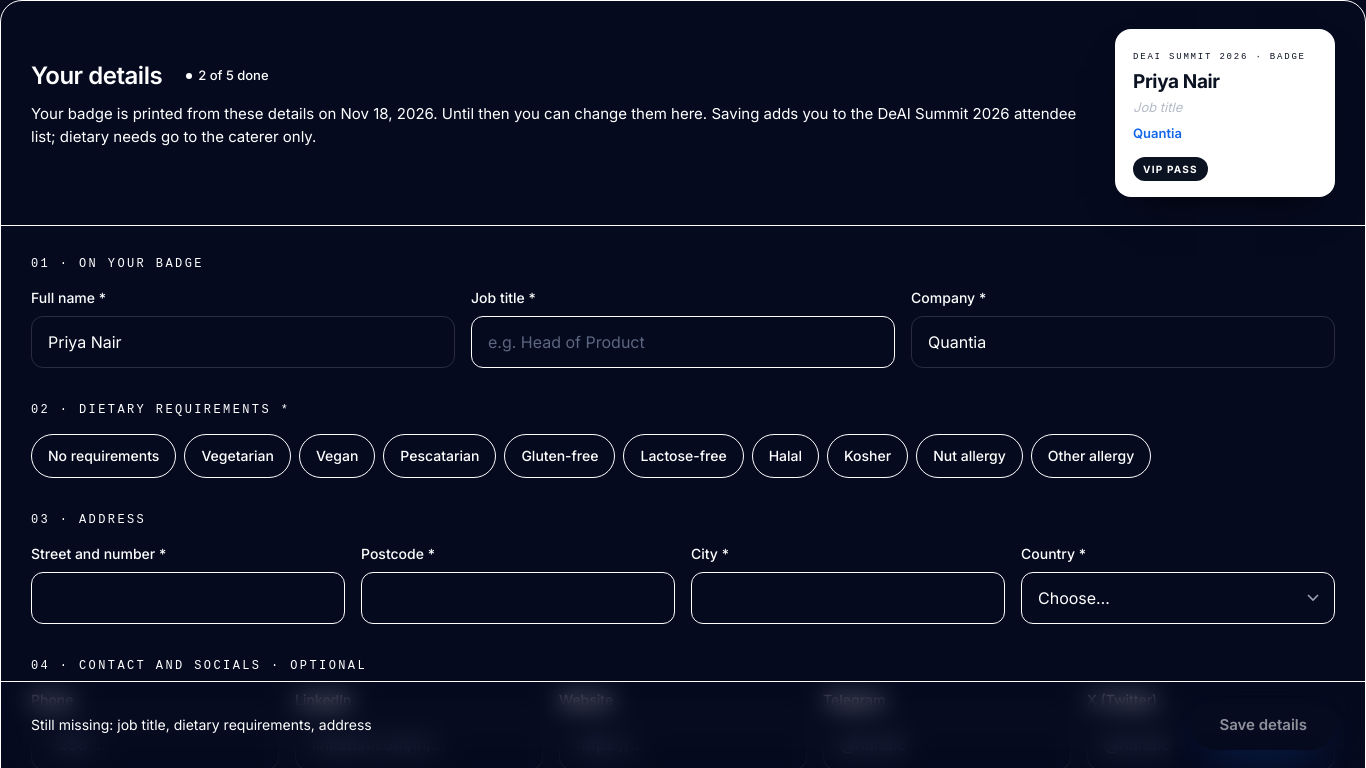
Test case: TicketDetailsForm › saves only the changed fields with the token in a header, says what is still missing, and refreshes the page
This screenshot has width=1366, height=768.
Type " CTO " into the field labelled "Job title *" at (683, 342), box [471,316,895,368]
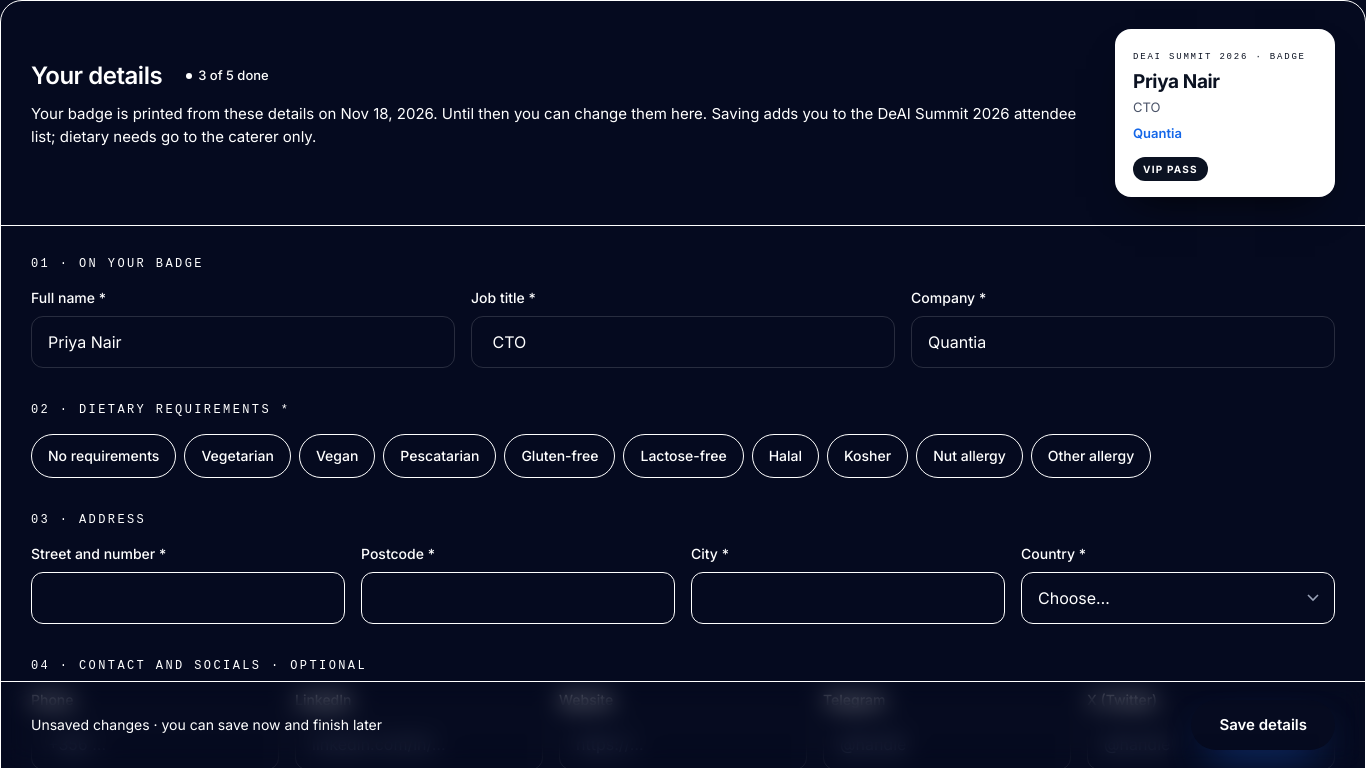
Click the button "Vegan" at (337, 456), box [299,434,375,478]
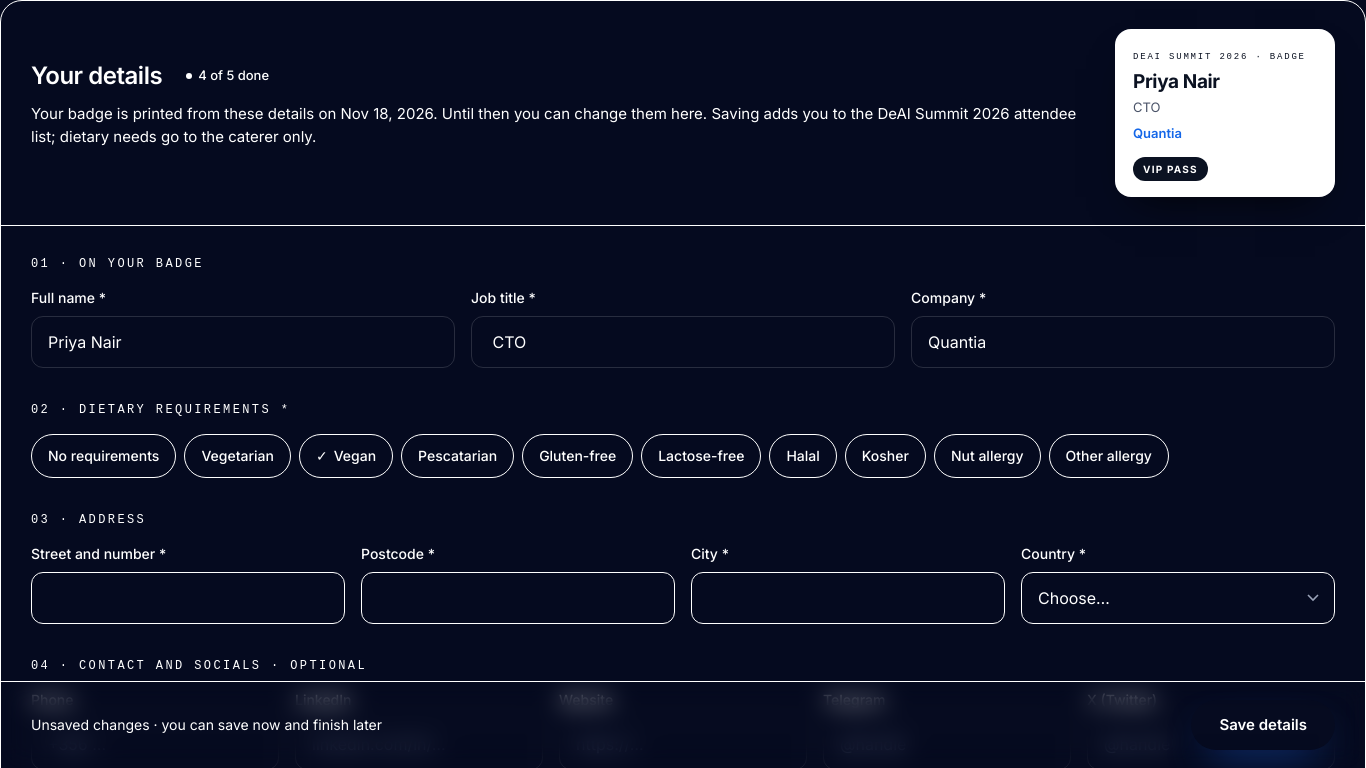
Click the button "Save details" at (1263, 725), box [1191,700,1335,750]
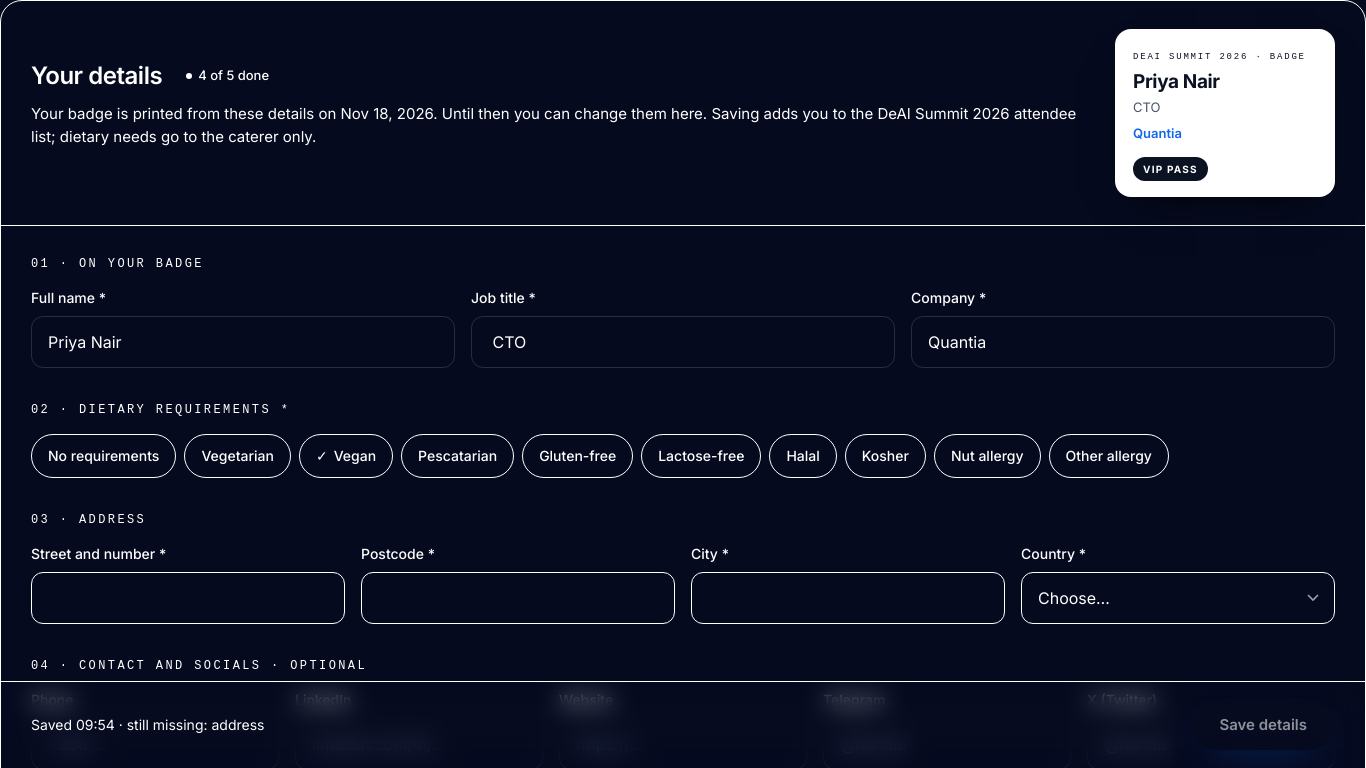
Now the text "Saved 09:54 · still missing: address" is shown, box [31,716,264,733]
Now the button "Save details" is disabled, box [1191,700,1335,750]
